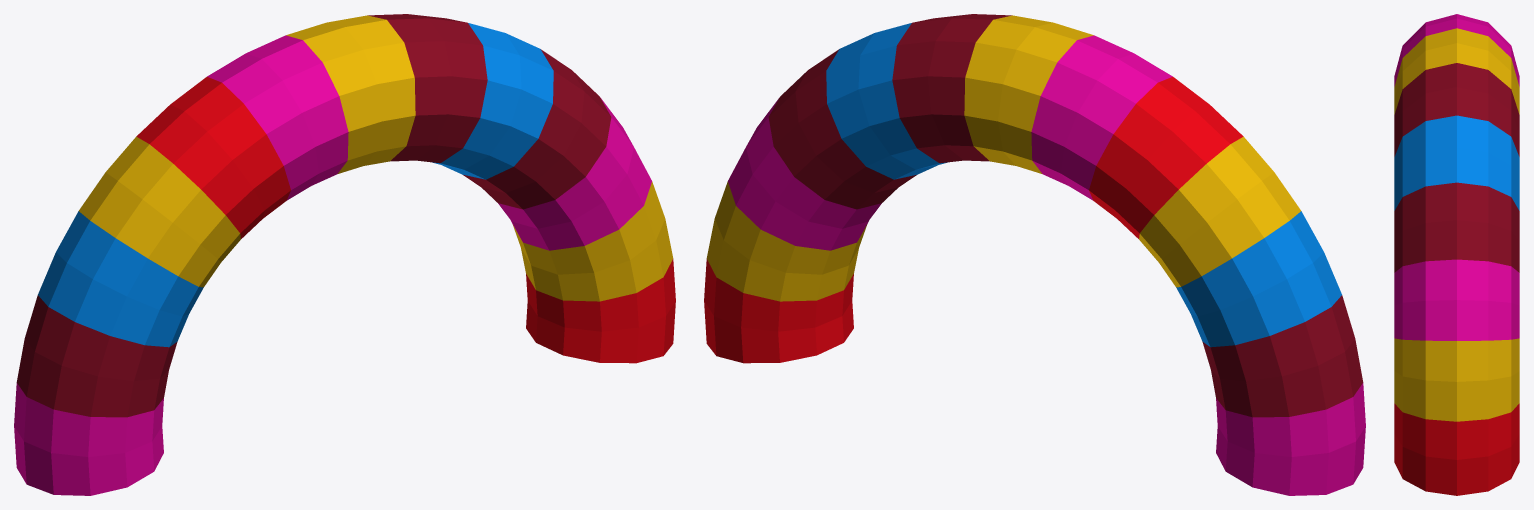
Rendered from bubble.fbx.
3 views of the same model, side by side, from view 1: azimuth 30°, elevation 25°; view 2: azimuth 150°, elevation 25°; view 3: azimuth 270°, elevation 25° (orthographic). The views are drawn at different scales.
Visible parts, largest first — view 1: Torus.001; view 2: Torus.001; view 3: Torus.001.
Boxes of the visible parts, x1,y1,x2,y2 form: Torus.001: [14, 14, 675, 495]; Torus.001: [704, 14, 1365, 495]; Torus.001: [1394, 14, 1519, 495].
Bounding box in the file's own units: 250 × 141 × 50.
